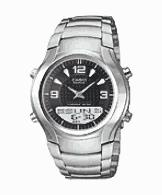watch: (33, 39, 128, 164)
